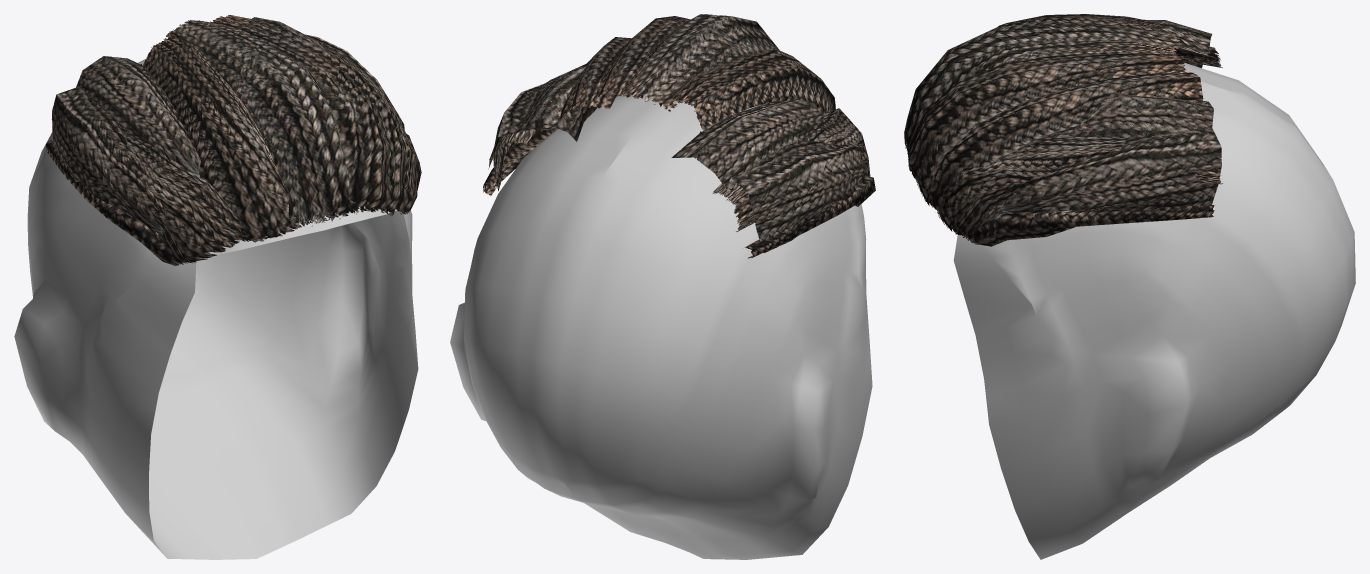
Rendered from Adheera_Skull_Cap.fbx.
The picture shows the model from 3 angles, left to right: view 1: azimuth 30°, elevation 25°; view 2: azimuth 150°, elevation 25°; view 3: azimuth 270°, elevation 25°; orthographic projection. The views are drawn at different scales.
Parts seen in each view (by area): view 1: polySurface15, polySurface1, polySurface9, polySurface7, polySurface6, polySurface3, polySurface2, polySurface8, polySurface11, polySurface10, polySurface5; view 2: polySurface15, polySurface6, polySurface9, polySurface1, polySurface2, polySurface7, polySurface3, polySurface4, polySurface8, polySurface5, polySurface11, polySurface12 (+1 smaller); view 3: polySurface15, polySurface5, polySurface7, polySurface8, polySurface1, polySurface10, polySurface4, polySurface12, polySurface9, polySurface2, polySurface3.
Boxes of the visible parts, left/top/right/bottom form: polySurface15: left=14, top=58, right=418, bottom=559; polySurface1: left=164, top=20, right=358, bottom=226; polySurface9: left=141, top=35, right=309, bottom=242; polySurface7: left=210, top=16, right=397, bottom=216; polySurface6: left=52, top=86, right=167, bottom=240; polySurface3: left=51, top=119, right=242, bottom=265; polySurface2: left=76, top=56, right=200, bottom=176; polySurface8: left=225, top=15, right=413, bottom=214; polySurface11: left=46, top=140, right=177, bottom=266; polySurface10: left=333, top=54, right=417, bottom=212; polySurface5: left=305, top=34, right=404, bottom=129; polySurface15: left=450, top=95, right=872, bottom=559; polySurface6: left=732, top=141, right=867, bottom=253; polySurface9: left=672, top=48, right=835, bottom=133; polySurface1: left=619, top=14, right=779, bottom=111; polySurface2: left=671, top=99, right=825, bottom=192; polySurface7: left=585, top=16, right=690, bottom=110; polySurface3: left=713, top=108, right=870, bottom=231; polySurface4: left=508, top=66, right=597, bottom=151; polySurface8: left=559, top=37, right=631, bottom=120; polySurface5: left=493, top=84, right=555, bottom=191; polySurface11: left=744, top=176, right=875, bottom=258; polySurface12: left=483, top=128, right=557, bottom=195; polySurface15: left=953, top=62, right=1355, bottom=559; polySurface5: left=1002, top=128, right=1221, bottom=213; polySurface7: left=908, top=51, right=1186, bottom=207; polySurface8: left=929, top=72, right=1203, bottom=232; polySurface1: left=904, top=22, right=1180, bottom=155; polySurface10: left=942, top=136, right=1222, bottom=240; polySurface4: left=1070, top=96, right=1213, bottom=137; polySurface12: left=970, top=205, right=1214, bottom=246; polySurface9: left=996, top=14, right=1162, bottom=30; polySurface2: left=1143, top=19, right=1212, bottom=58; polySurface3: left=1176, top=43, right=1222, bottom=67.
Bounding box in the file's own units: 16.88 × 23.52 × 18.65.
